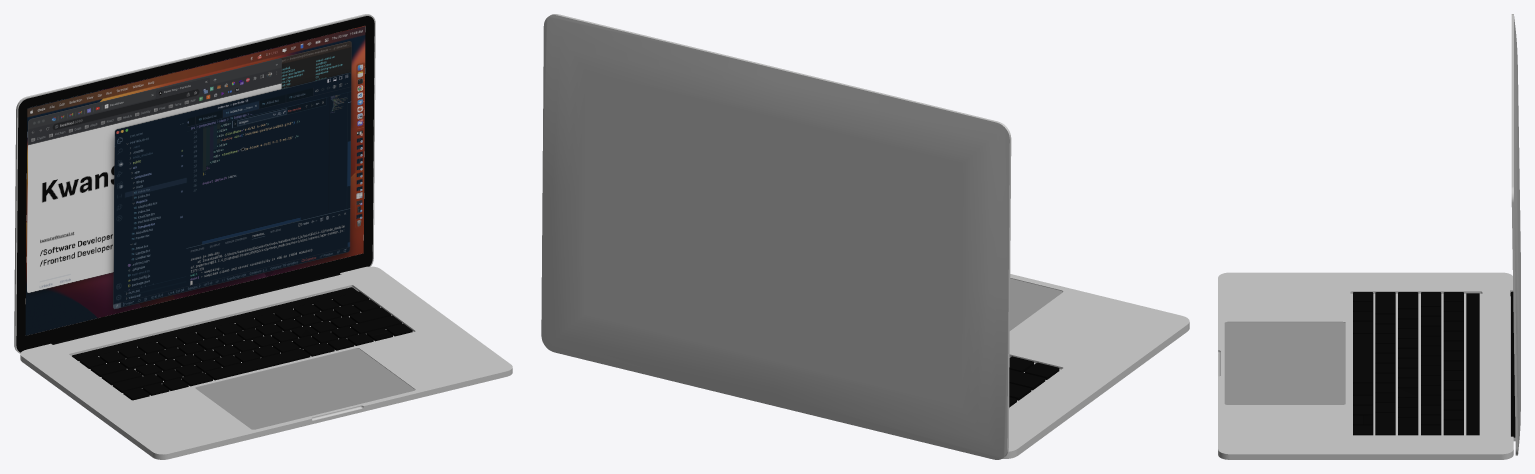
Rendered from mac-portfolio2023.gltf.
3 renders of one model, left to right at view 1: azimuth 30°, elevation 25°; view 2: azimuth 150°, elevation 25°; view 3: azimuth 270°, elevation 25°, orthographic. The views are drawn at different scales.
Parts seen in each view (by area): view 1: screen, base, keyboard, touchbar; view 2: screen, base, keyboard; view 3: base, keyboard, screen, touchbar.
Boxes of the visible parts, <box> form: screen: <box>14,14,375,353</box>; base: <box>20,266,512,459</box>; keyboard: <box>79,291,412,400</box>; touchbar: <box>72,287,358,360</box>; screen: <box>541,14,1011,459</box>; base: <box>1002,274,1189,458</box>; keyboard: <box>1009,356,1059,407</box>; base: <box>1218,272,1513,459</box>; keyboard: <box>1353,292,1463,435</box>; screen: <box>1510,14,1520,455</box>; touchbar: <box>1466,293,1479,435</box>.
Bounding box in the file's own units: 8.81 × 6.16 × 6.2.
6 materials, 1 textured.
